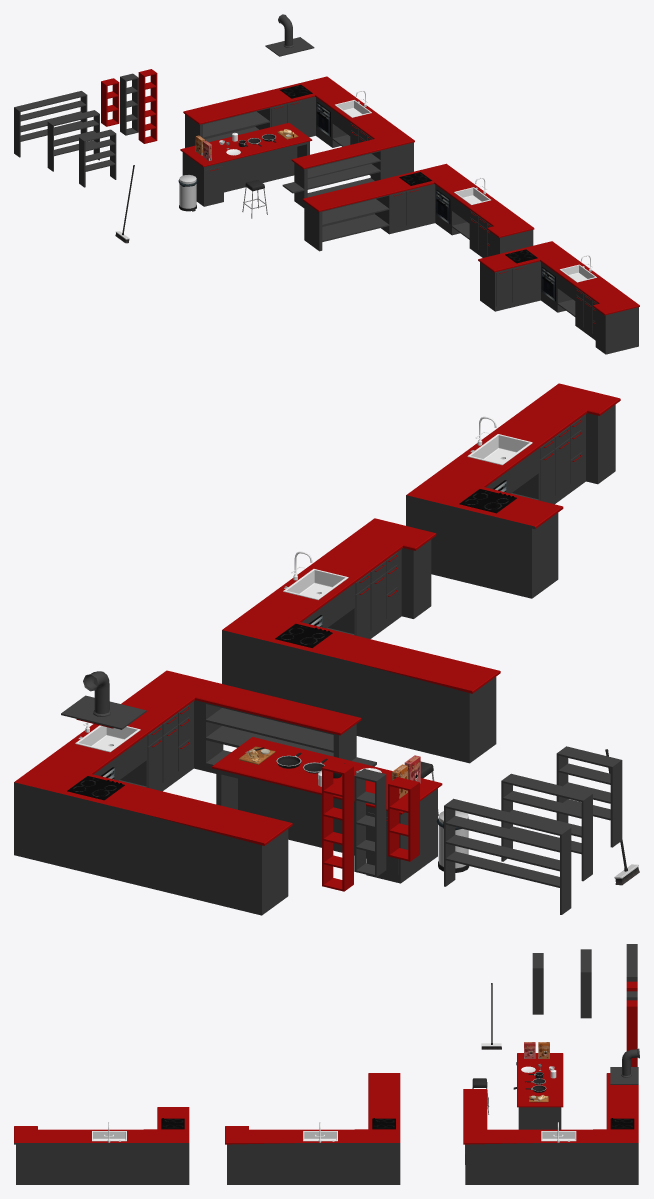
The model's file is kitchen_creation_kit.FBX.
The picture shows the model from 3 angles, top to bottom: view 1: azimuth 30°, elevation 25°; view 2: azimuth 150°, elevation 25°; view 3: azimuth 270°, elevation 25°; orthographic projection. The views are drawn at different scales.
Parts seen in each view (by area): view 1: kitchen_01, kitchen_02, kitchen_03, centerTable_01, shelf_01, shelf_05, shelf_06, shelf_02, shelf_03, basket_01, shelf_04, bean_01; view 2: kitchen_01, kitchen_02, kitchen_03, centerTable_01, shelf_01, shelf_05, shelf_02, shelf_06, shelf_03, basket_01, shelf_04, hotPlates_02 (+3 smaller); view 3: kitchen_01, kitchen_02, kitchen_03, centerTable_01, shelf_05, shelf_06, basket_01, shelf_02, shelf_01.
Boxes of the visible parts, x1,y1,x2,y2 form: kitchen_01: (183,76,414,207); kitchen_02: (302,163,534,257); kitchen_03: (478,241,639,354); centerTable_01: (180,123,312,206); shelf_01: (14,91,87,157); shelf_05: (47,110,99,171); shelf_06: (79,129,116,187); shelf_02: (138,69,157,143); shelf_03: (120,73,138,135); basket_01: (265,14,314,56); shelf_04: (101,78,119,126); bean_01: (178,175,197,211); kitchen_01: (14,670,376,915); kitchen_02: (222,518,500,763); kitchen_03: (406,383,620,598); centerTable_01: (212,737,442,883); shelf_01: (444,798,571,914); shelf_05: (501,773,592,881); shelf_02: (322,761,353,891); shelf_06: (556,746,622,847); shelf_03: (354,769,386,876); basket_01: (61,671,146,729); shelf_04: (388,777,419,861); hotPlates_02: (275,623,332,647); kitchen_01: (463,1073,638,1184); kitchen_02: (225,1073,400,1184); kitchen_03: (14,1107,189,1184); centerTable_01: (517,1053,563,1129); shelf_05: (580,949,591,1018); shelf_06: (532,953,543,1014); basket_01: (610,1048,639,1084); shelf_02: (626,1000,637,1066); shelf_01: (626,944,637,981).
Bounding box in the file's own units: 19.55 × 6.83 × 33.83.
